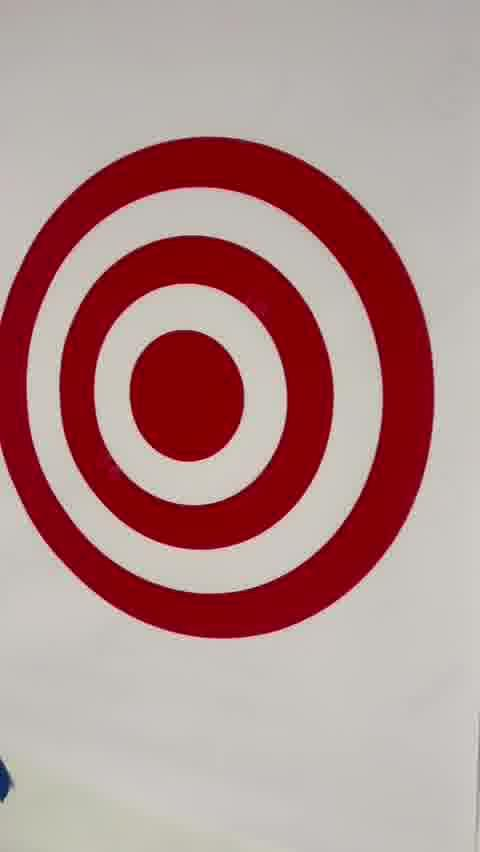target_red: (0, 133, 437, 635)
